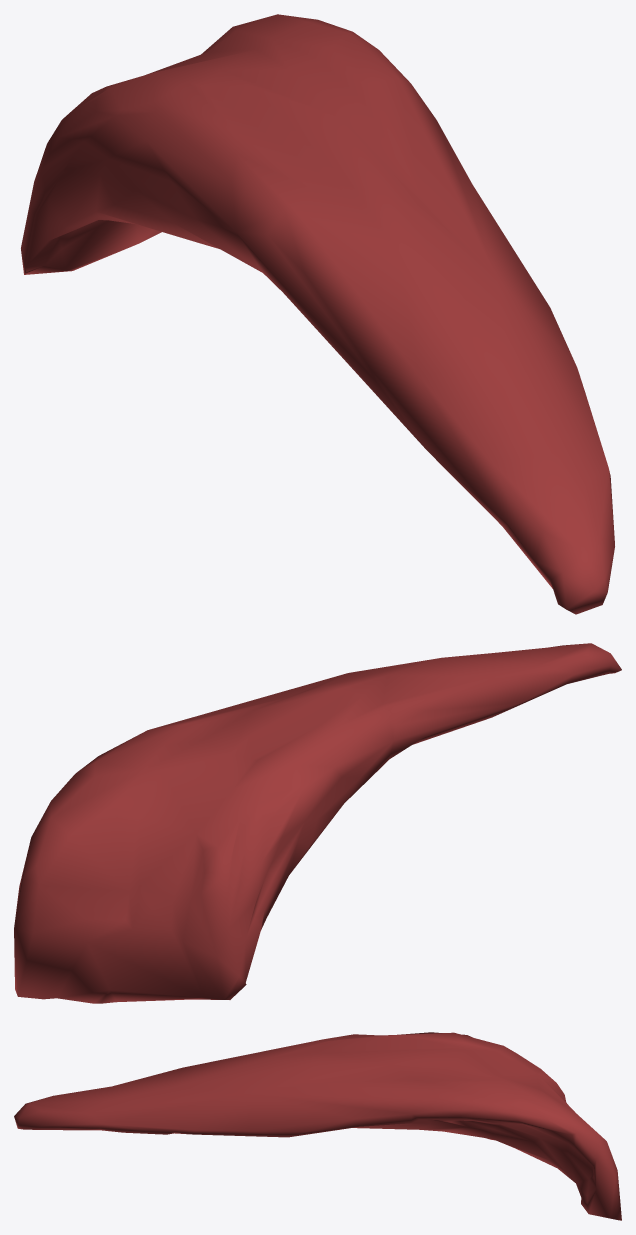
Rendered from geniohyoid-muscle-l.glb.
3 views of the same model, one above another, from view 1: azimuth 30°, elevation 25°; view 2: azimuth 150°, elevation 25°; view 3: azimuth 270°, elevation 25° (orthographic). The views are drawn at different scales.
Visible parts, largest first — view 1: Geniohyoid muscle.l; view 2: Geniohyoid muscle.l; view 3: Geniohyoid muscle.l.
Boxes of the visible parts, x1=… form: Geniohyoid muscle.l: x1=21, y1=14, x2=614, y2=614; Geniohyoid muscle.l: x1=14, y1=643, x2=621, y2=1003; Geniohyoid muscle.l: x1=14, y1=1032, x2=621, y2=1220.
Size of the model in its own units: 0.0112 by 0.0101 by 0.0401.
